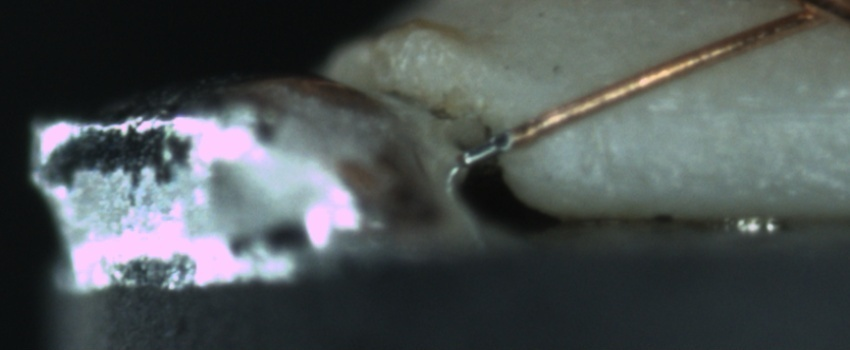CL: (769, 0, 847, 32)
DL: (627, 76, 850, 147)
TS: (464, 130, 518, 162)
